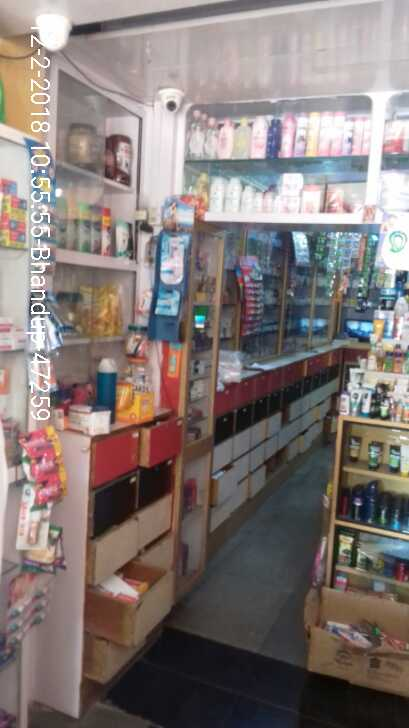beauty: (153, 227, 187, 287), (150, 285, 178, 316)
